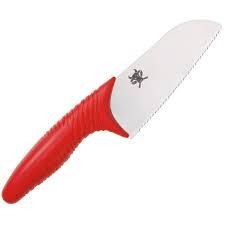Knife: (1, 17, 222, 204)
